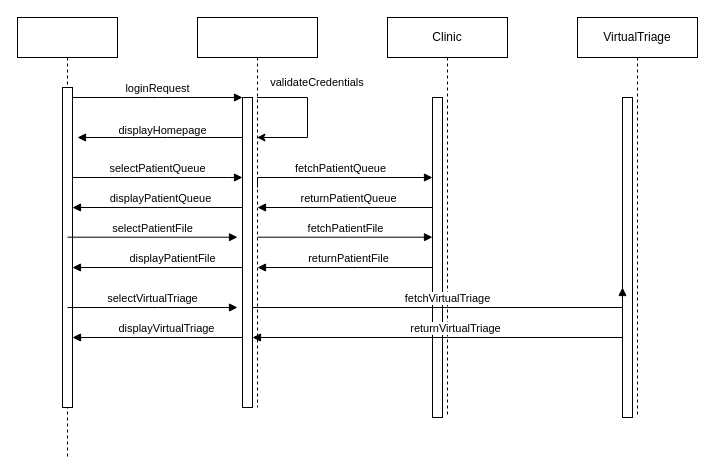
The diagram is 715 pixels wide and 475 high, and some of its shapes have lost their labels. Here are the shapes that lost their labels. From the top down, the box of each, then its label:
(196, 16, 318, 408): Mister ED System
(16, 16, 118, 458): GP
